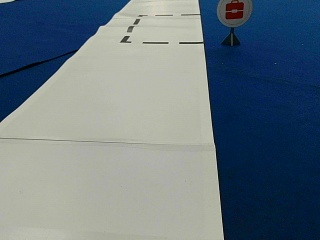company: (216, 0, 252, 26)
